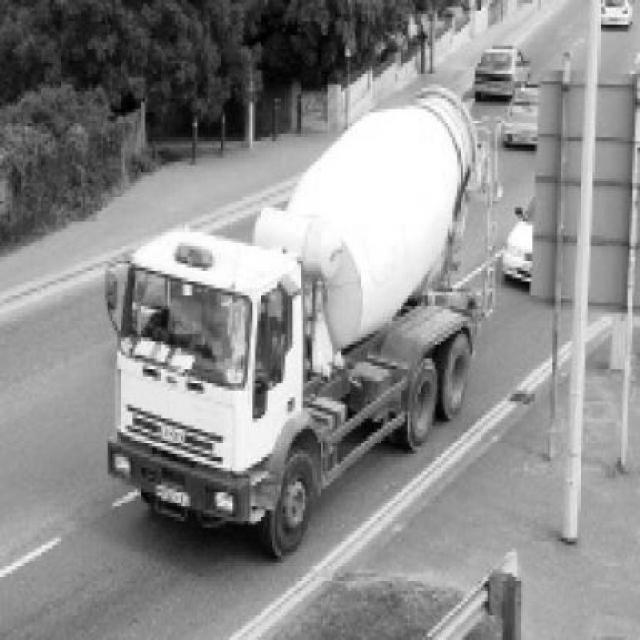Concrete Mixer: (107, 88, 504, 560)
